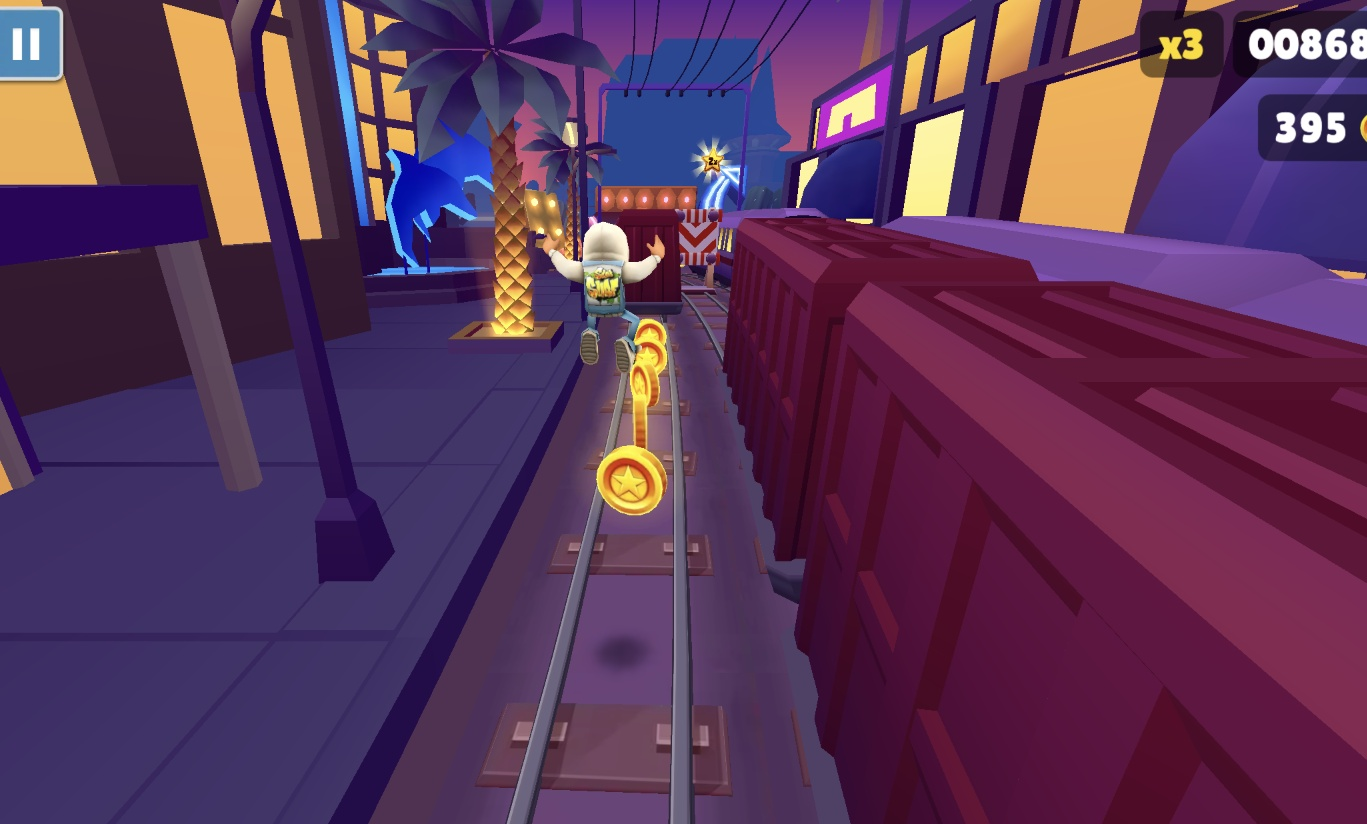overhead_barrier: (675, 208, 723, 295)
train: (725, 215, 1367, 824), (717, 208, 1367, 278), (612, 210, 686, 320)
